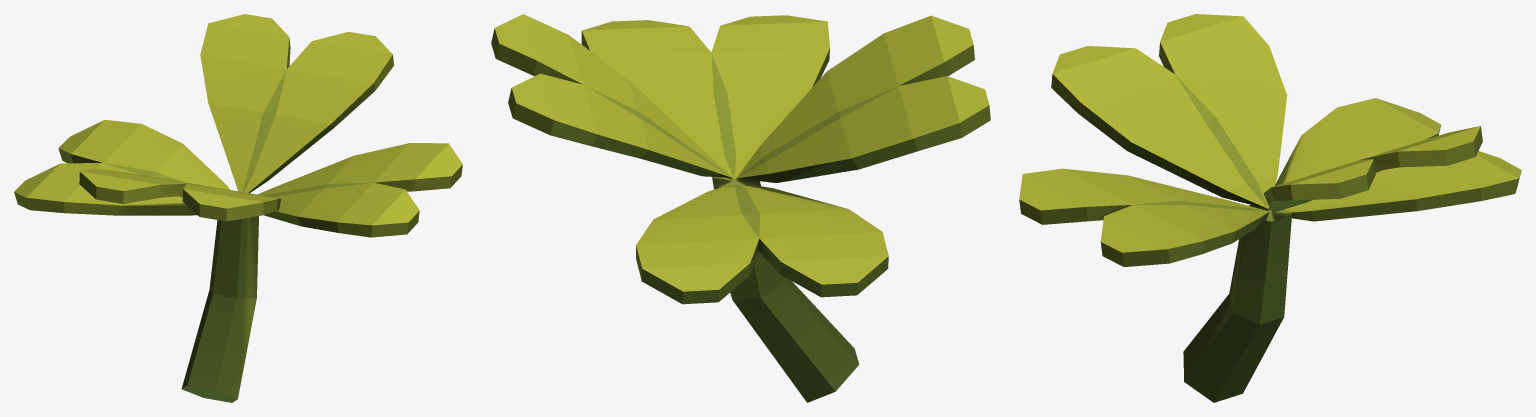
The model's file is e15565fb-237b-4aaa-b9e1-acd086860a35.glb.
3 renders of one model, left to right at view 1: azimuth 30°, elevation 25°; view 2: azimuth 150°, elevation 25°; view 3: azimuth 270°, elevation 25°, orthographic. The views are drawn at different scales.
Visible parts, largest first — view 1: clover; view 2: clover; view 3: clover.
Part boxes in pixels (<box>): clover: <box>14,14,462,402</box>; clover: <box>491,14,990,402</box>; clover: <box>1019,14,1521,402</box>.
Size of the model in its own units: 1.42 by 1.11 by 1.51.
1 material, 1 textured.
